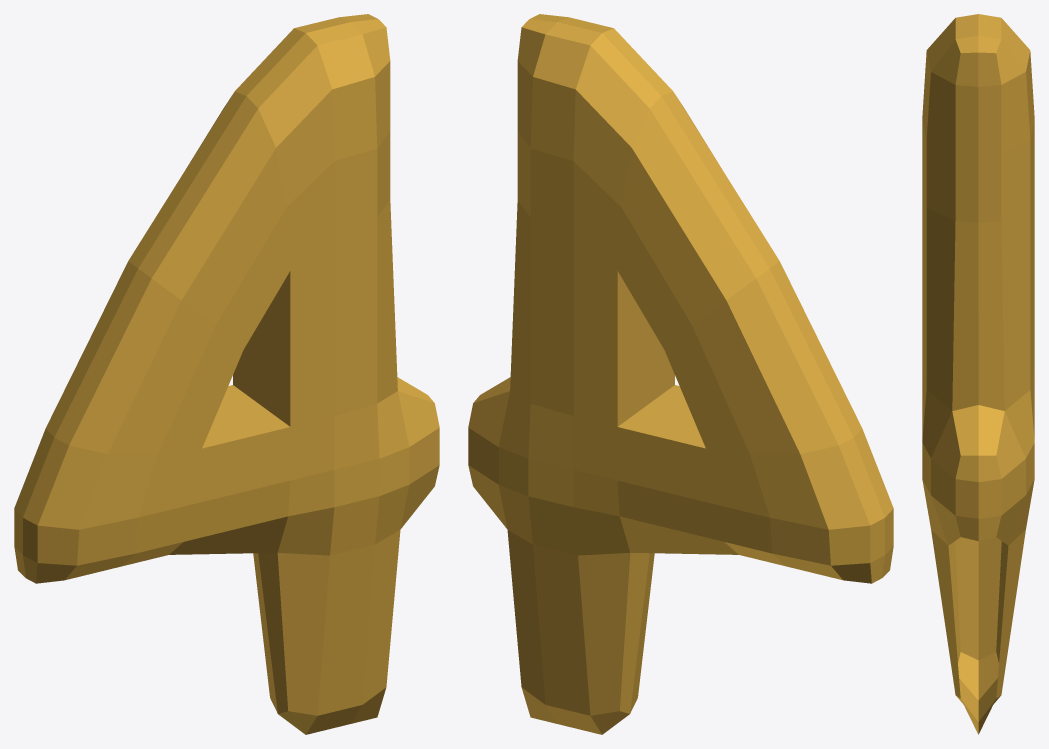
3 renders of one model, left to right at view 1: azimuth 30°, elevation 25°; view 2: azimuth 150°, elevation 25°; view 3: azimuth 270°, elevation 25°, orthographic. The views are drawn at different scales.
Parts seen in each view (by area): view 1: 4; view 2: 4; view 3: 4.
Boxes of the visible parts, <box> form: 4: <box>14,14,439,734</box>; 4: <box>468,14,893,734</box>; 4: <box>922,14,1034,734</box>.
Size of the model in its own units: 45.21 by 73.67 by 10.93.
